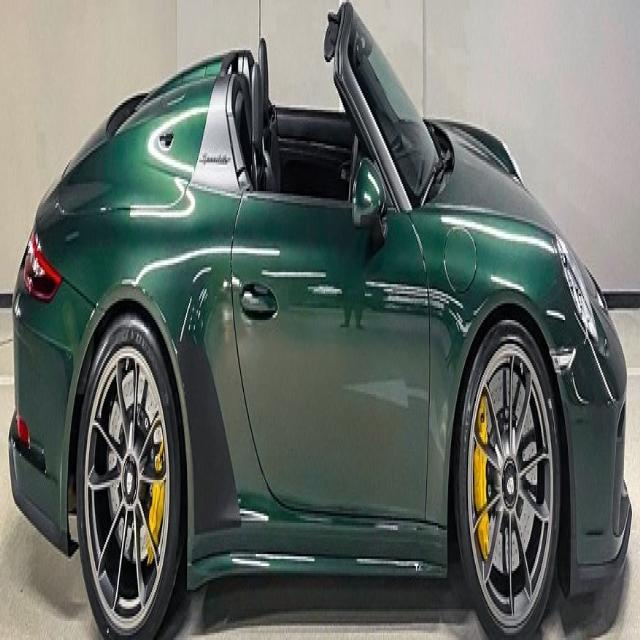green: (10, 2, 632, 640)
